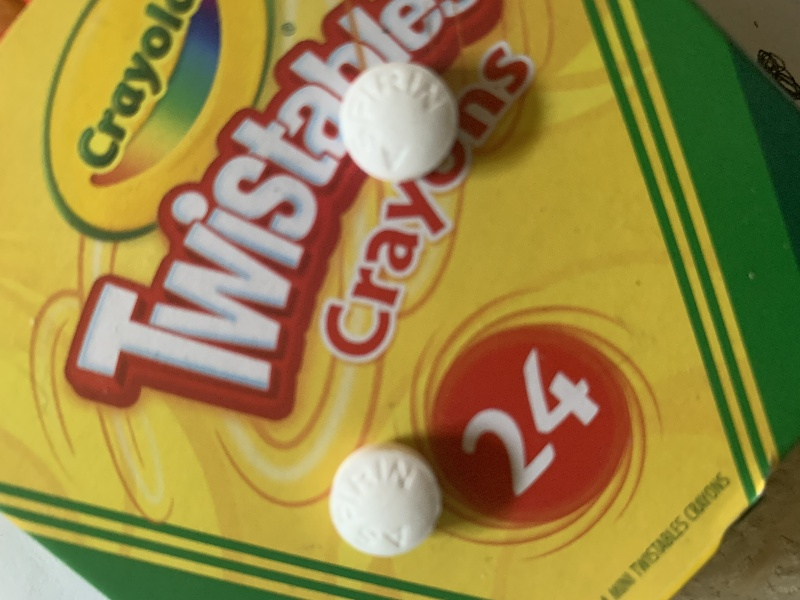Aspirin: (336, 55, 468, 187), (324, 439, 452, 563)
